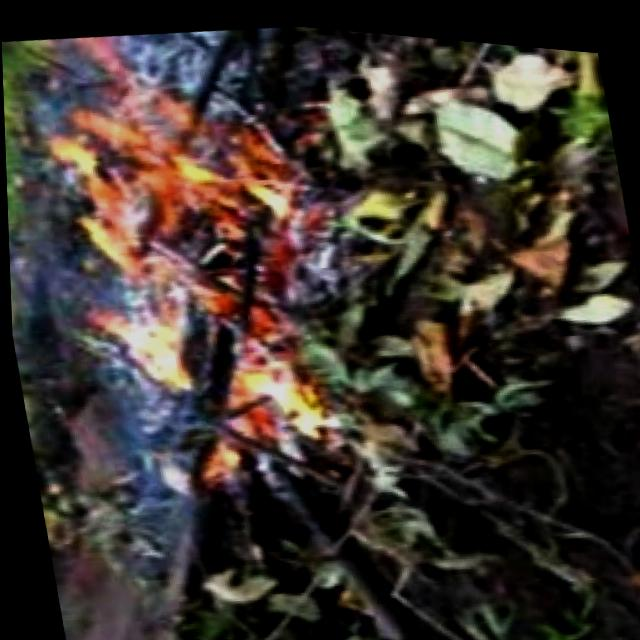helmet: (38, 67, 310, 468)
